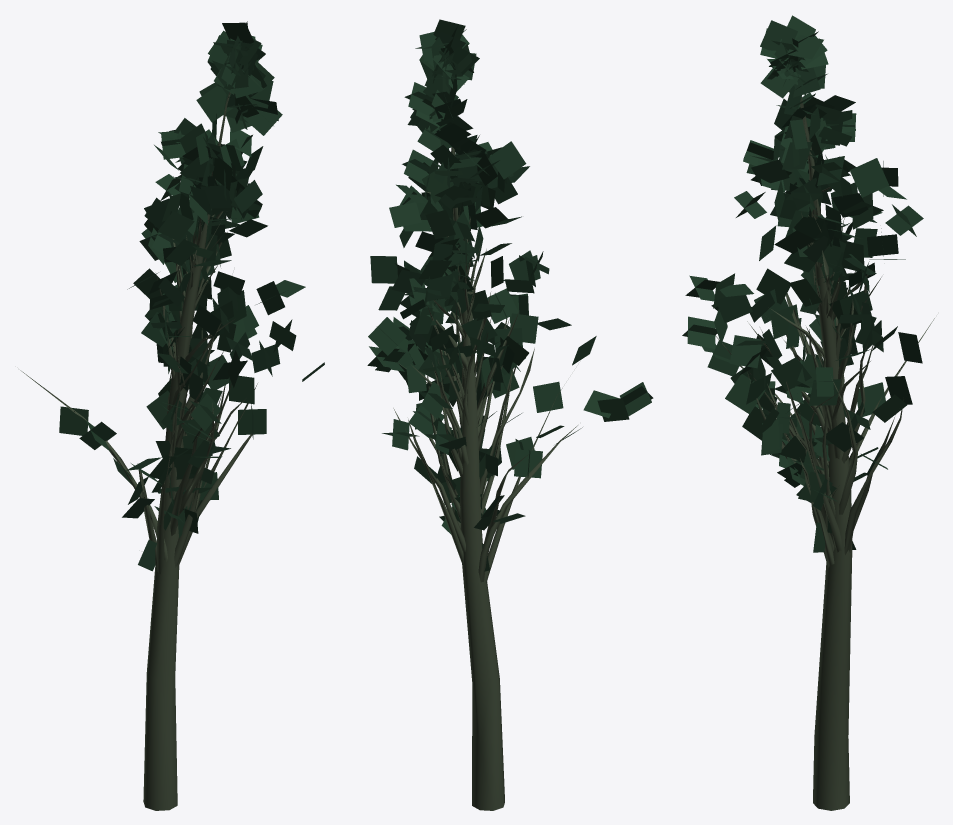
Rendered from meadow-spruce-a.lod2.glb.
3 renders of one model, left to right at view 1: azimuth 30°, elevation 25°; view 2: azimuth 150°, elevation 25°; view 3: azimuth 270°, elevation 25°, orthographic. The views are drawn at different scales.
Visible parts, largest first — view 1: leaves, bark; view 2: leaves, bark; view 3: leaves, bark.
Boxes of the visible parts, x1=… form: leaves: x1=59, y1=21, x2=324, y2=571; bark: x1=20, y1=92, x2=257, y2=810; leaves: x1=367, y1=19, x2=653, y2=571; bark: x1=393, y1=147, x2=577, y2=810; leaves: x1=682, y1=15, x2=923, y2=552; bark: x1=716, y1=96, x2=934, y2=810.
Size of the model in its own units: 16.95 by 51.2 by 14.54.
